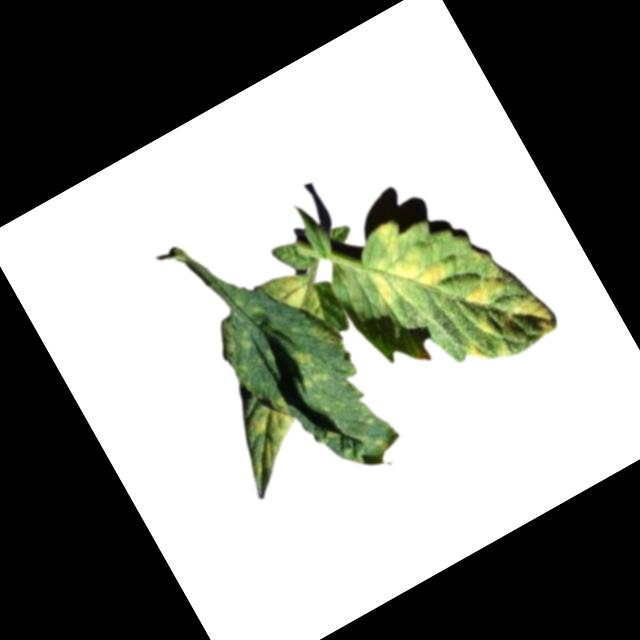Leaf_Mold: (345, 206, 453, 314), (241, 399, 306, 467), (497, 285, 559, 351), (456, 260, 520, 315), (264, 264, 320, 322), (286, 342, 334, 396), (462, 339, 489, 369)
